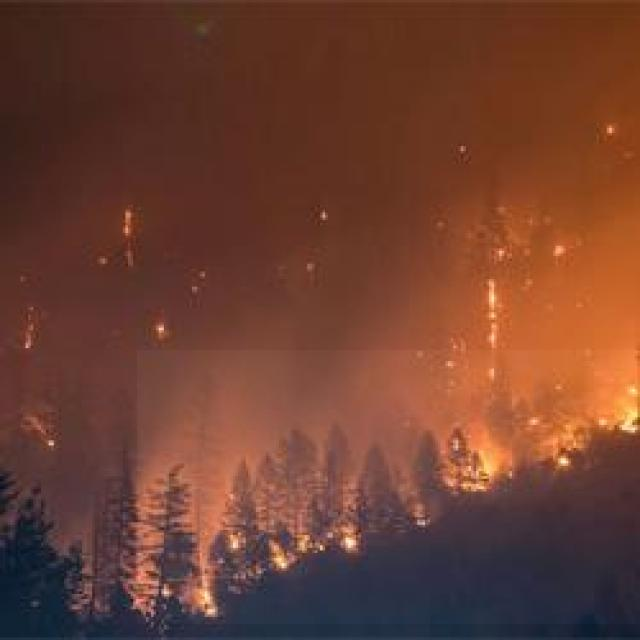Fire: (137, 350, 640, 624)
